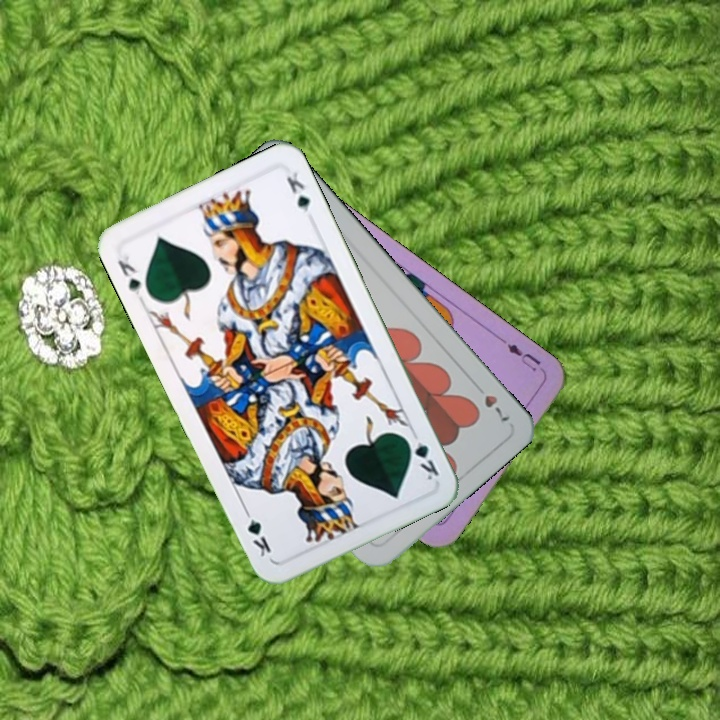EU: (497, 335, 547, 376)
GK: (401, 431, 442, 483), (113, 248, 144, 297)
H7: (469, 378, 513, 425)
